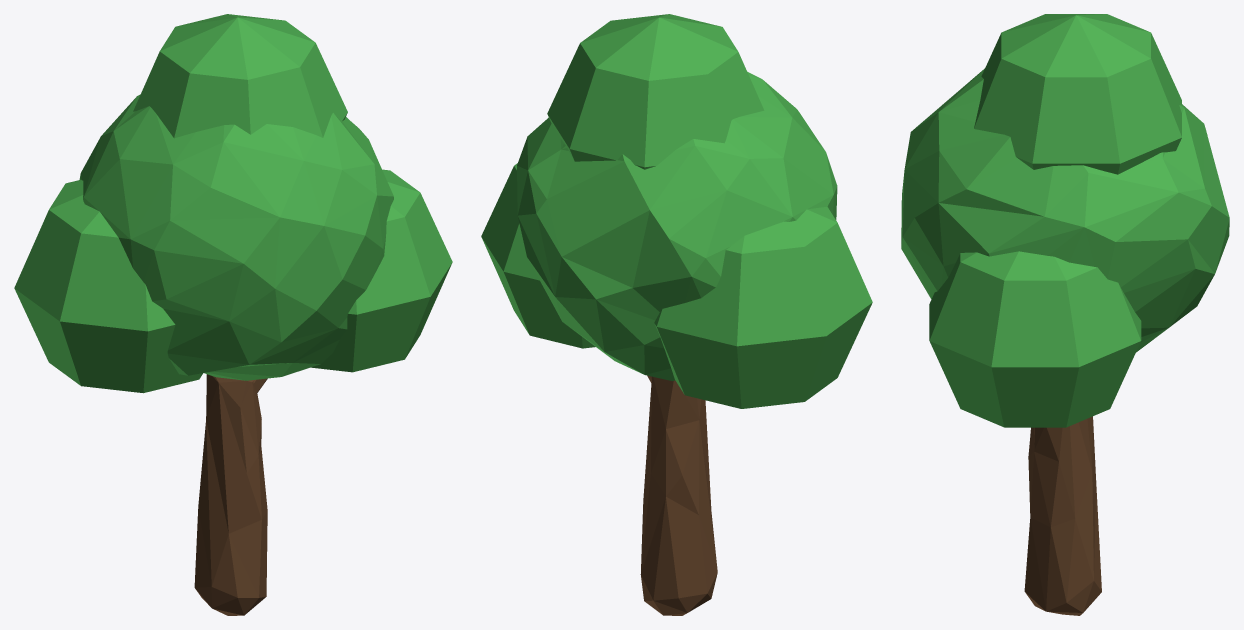
Rendered from tree.glb.
3 views of the same model, side by side, from view 1: azimuth 30°, elevation 25°; view 2: azimuth 150°, elevation 25°; view 3: azimuth 270°, elevation 25° (orthographic). The views are drawn at different scales.
Visible parts, largest first — view 1: root; view 2: root; view 3: root.
Part boxes in pixels (<box>): root: <box>14,14,452,615</box>; root: <box>481,14,872,615</box>; root: <box>901,14,1229,615</box>.
Bounding box in the file's own units: 1.6 × 2.46 × 1.2.
